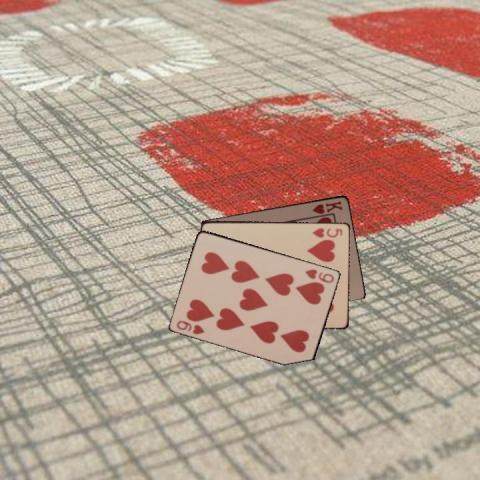5h: (309, 224, 344, 238)
9h: (174, 317, 207, 336), (302, 266, 335, 284)
Kh: (309, 197, 344, 215)
